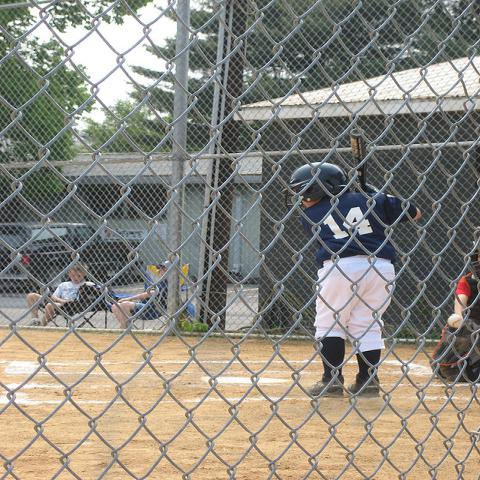truck: (2, 221, 143, 293)
